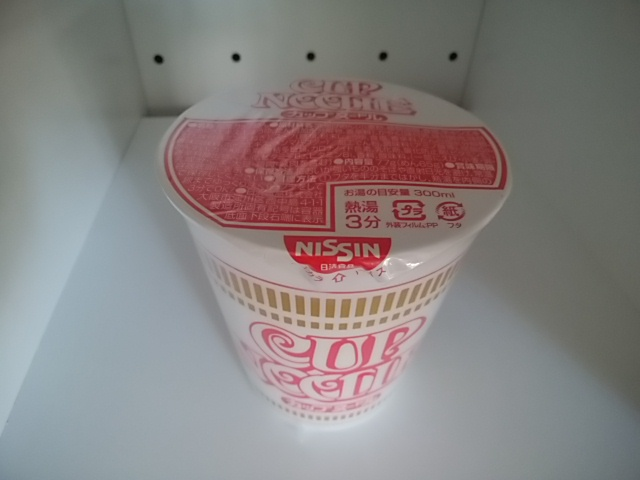cup-ramen: (152, 65, 521, 426)
